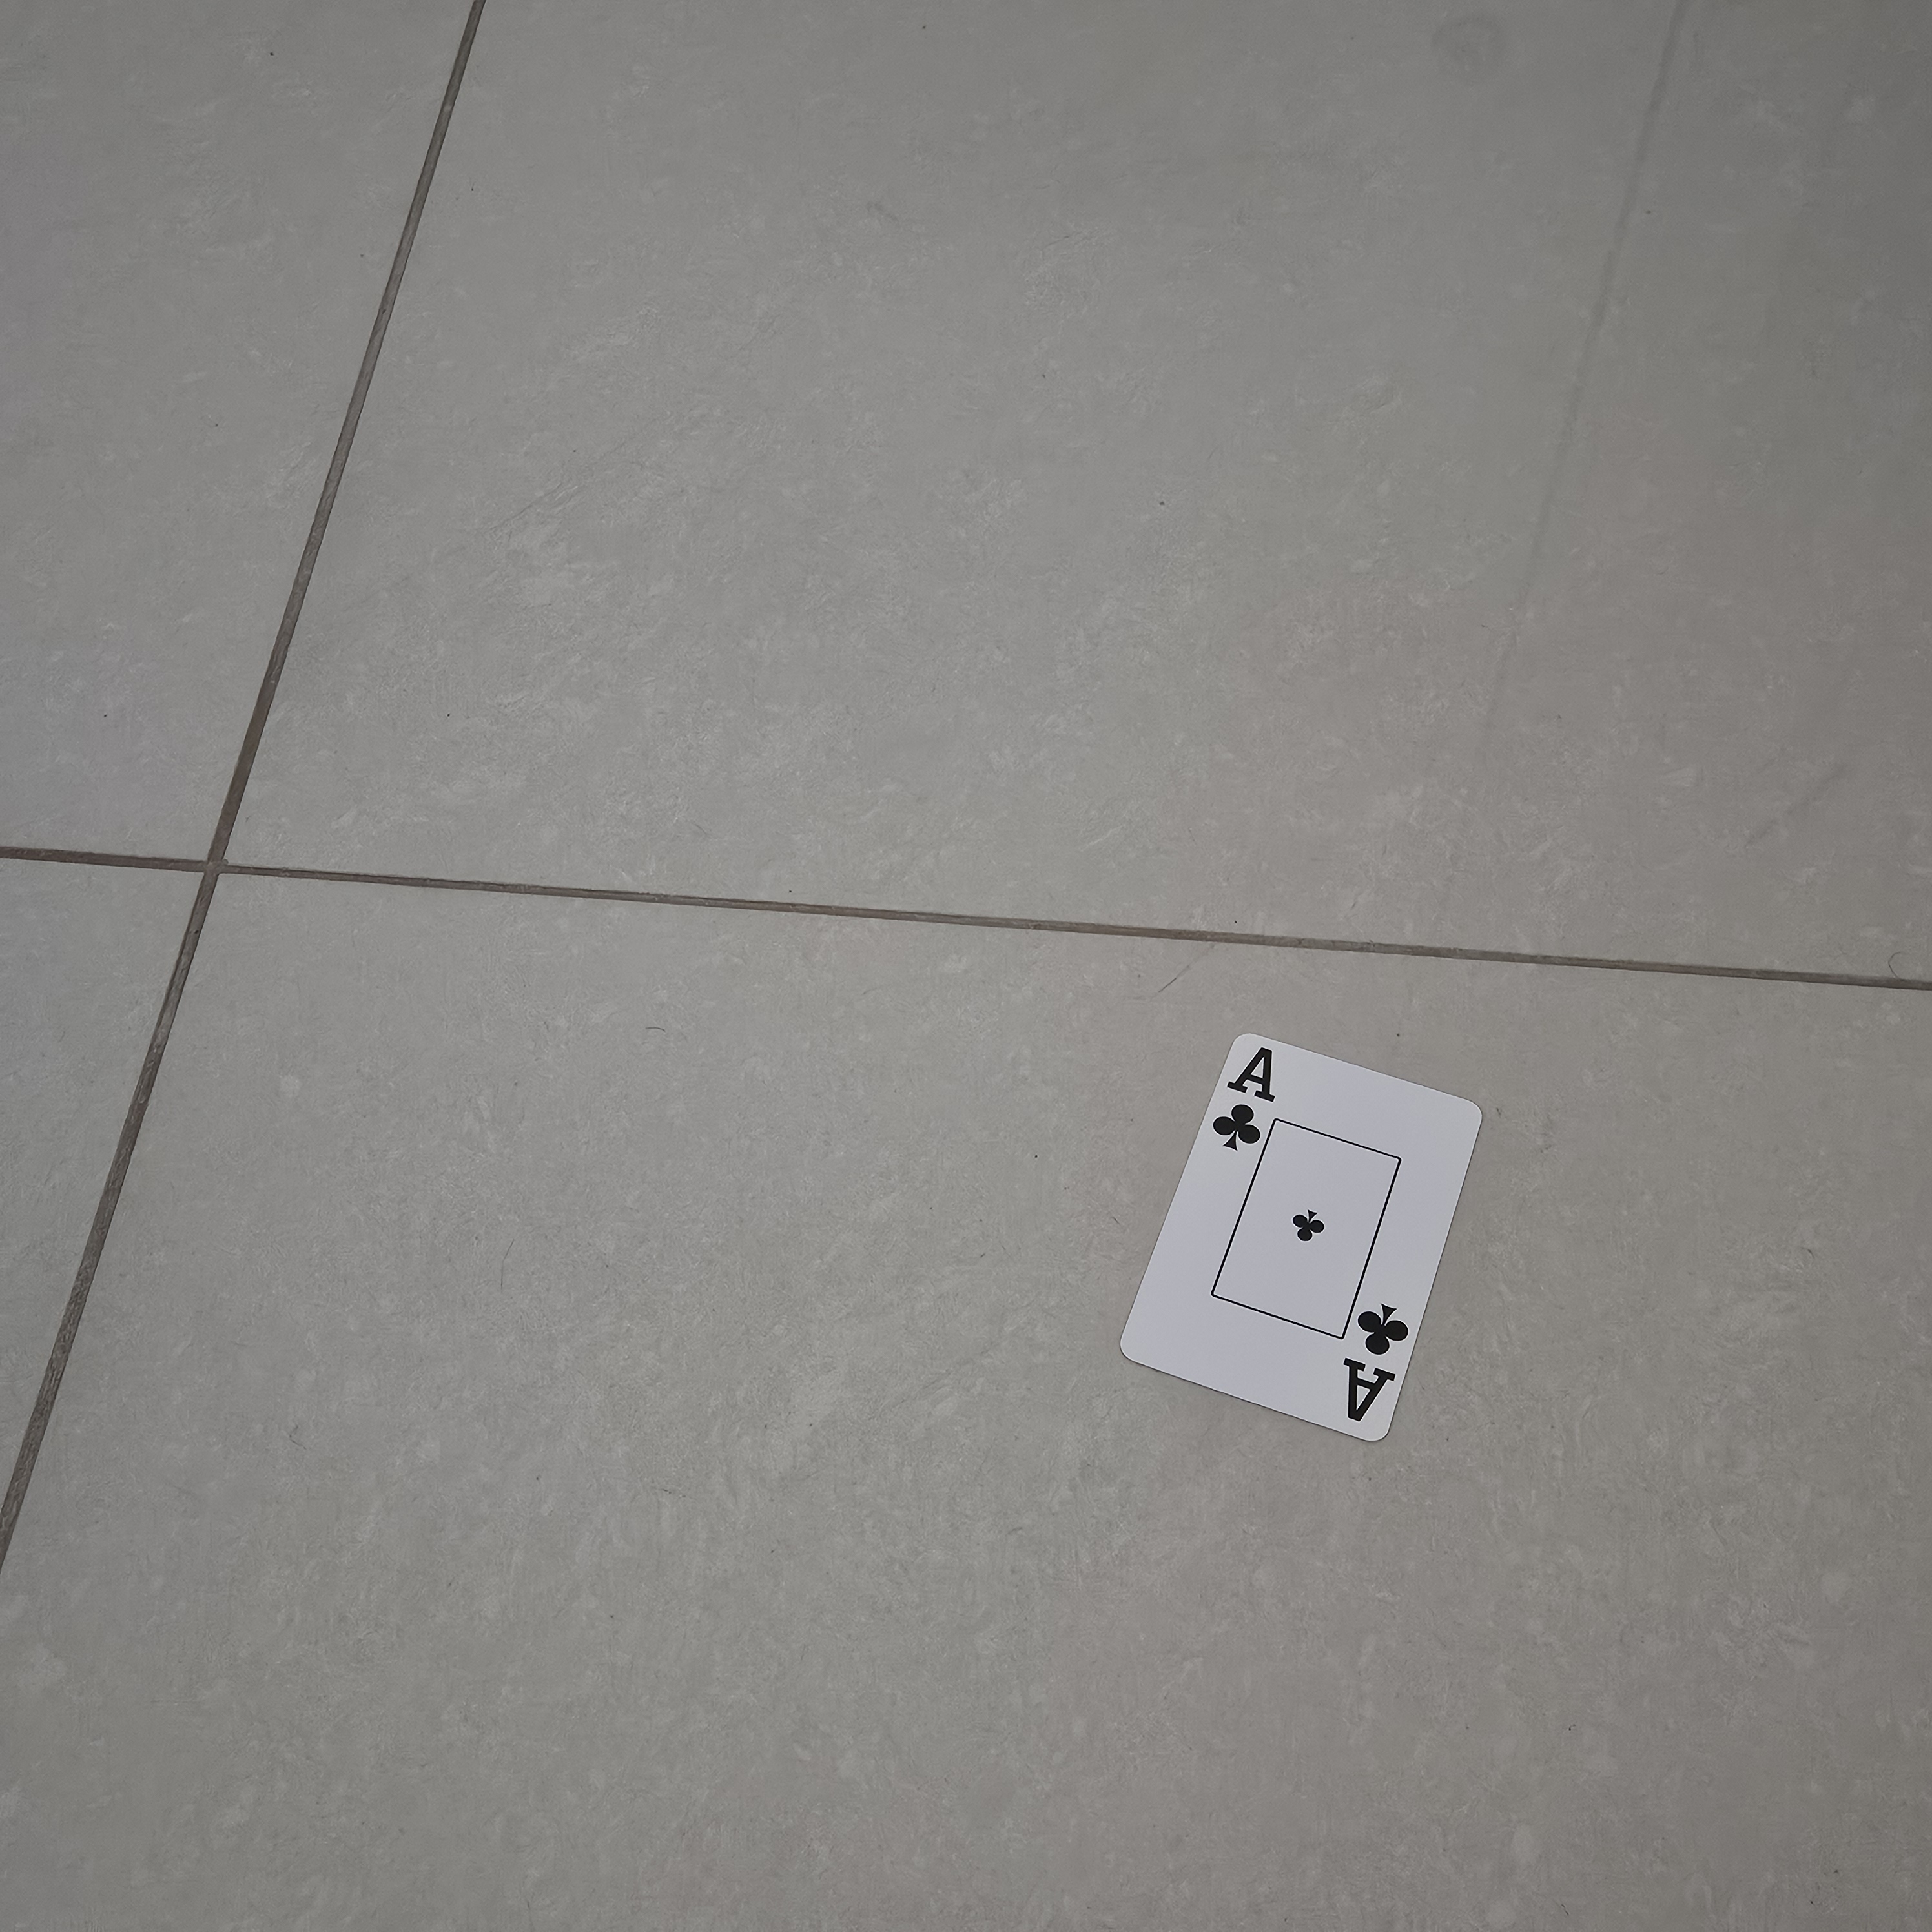AP: (1334, 1288, 1419, 1435), (1198, 1030, 1283, 1164)
